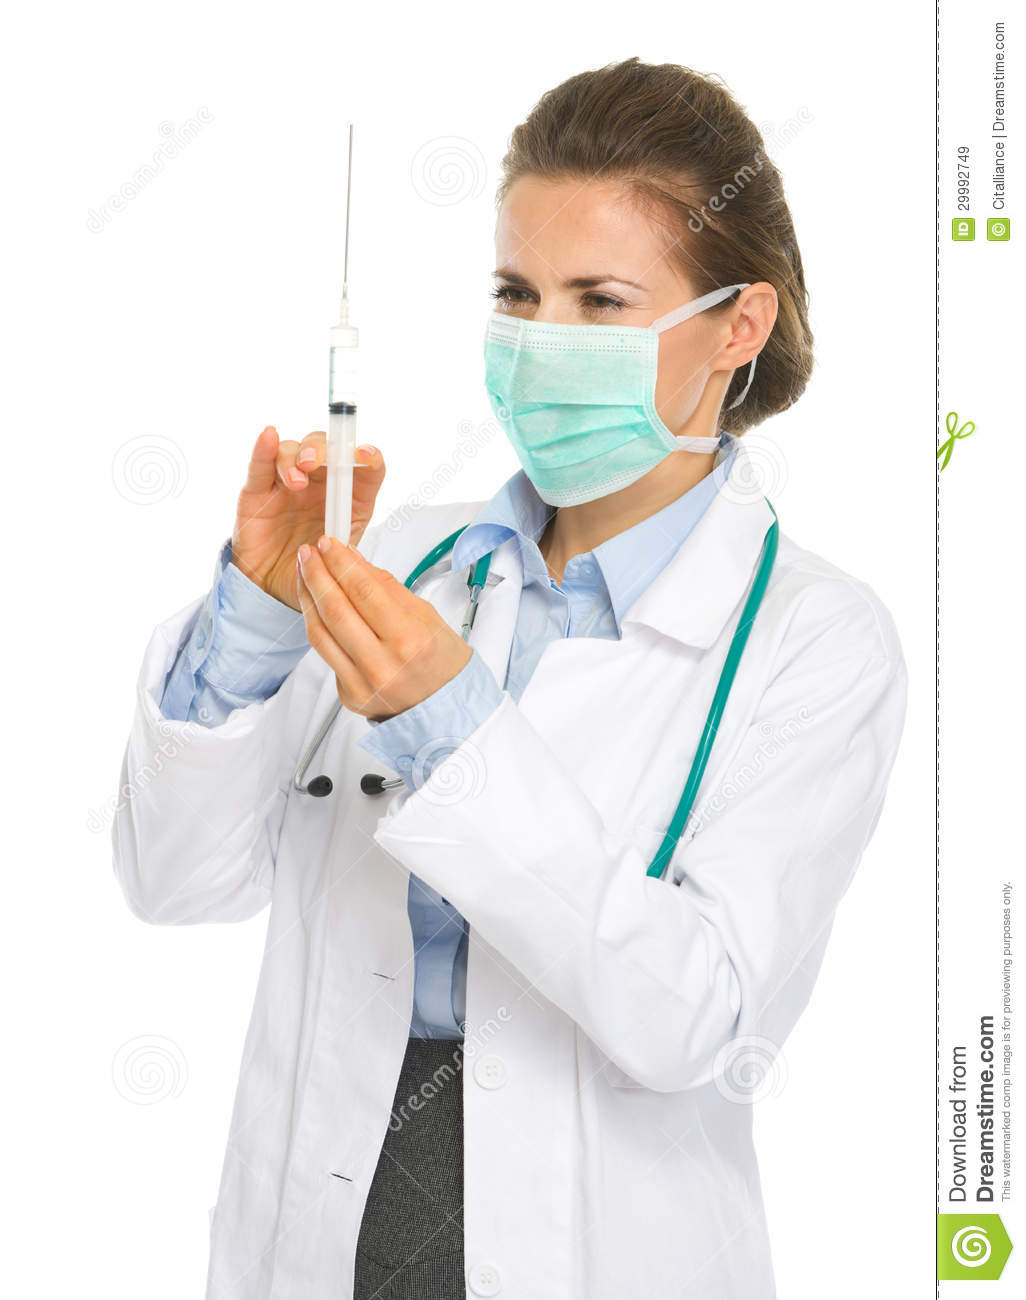mask: (481, 309, 674, 510)
